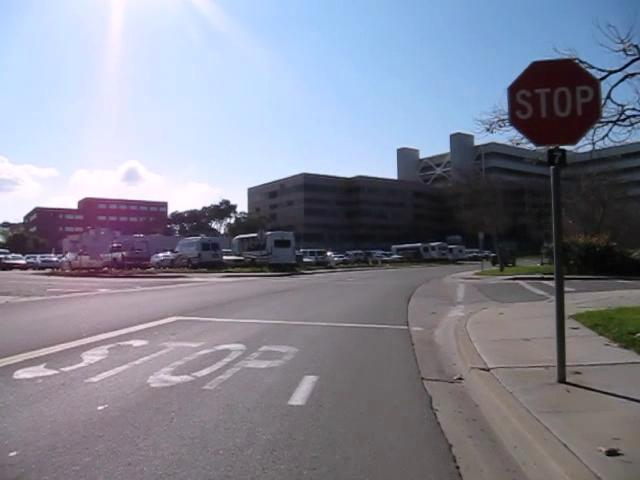stop: (506, 57, 602, 147)
